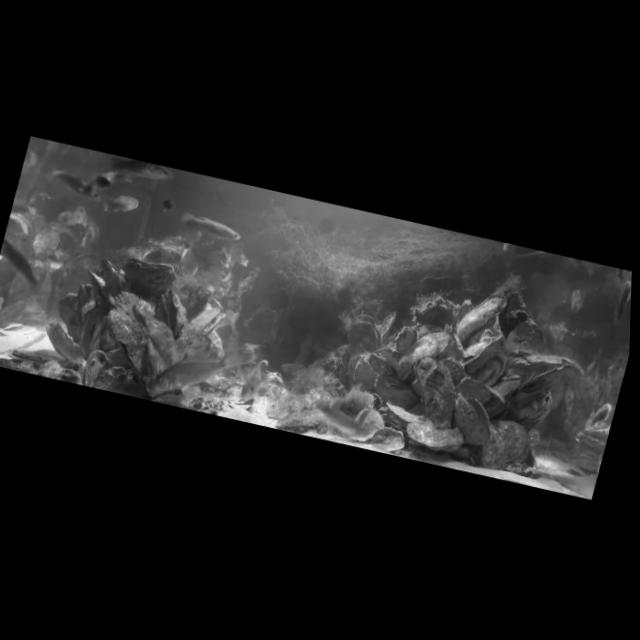Oyster-Closed: (95, 286, 162, 377), (399, 351, 468, 430), (393, 322, 450, 388), (453, 286, 508, 350), (400, 415, 467, 457), (459, 325, 505, 379), (483, 416, 533, 465), (177, 331, 214, 395), (7, 339, 70, 372), (475, 422, 515, 471), (381, 400, 438, 433), (370, 377, 419, 410), (435, 320, 472, 363), (79, 268, 114, 302)
Oyster-Indeterminate: (4, 255, 50, 321), (46, 289, 92, 345), (506, 344, 574, 380), (522, 355, 571, 403), (37, 315, 86, 361), (411, 293, 462, 334), (194, 330, 228, 390), (92, 256, 132, 300), (471, 345, 510, 387), (434, 352, 471, 390), (368, 423, 409, 456), (454, 373, 494, 406), (141, 239, 183, 270), (79, 348, 110, 389), (488, 369, 524, 402), (391, 322, 420, 358), (364, 353, 398, 378)
Oyster-Open: (443, 389, 500, 449), (118, 253, 179, 297), (150, 286, 194, 340), (341, 309, 389, 357), (346, 405, 388, 446), (185, 301, 227, 341), (3, 208, 38, 243)
